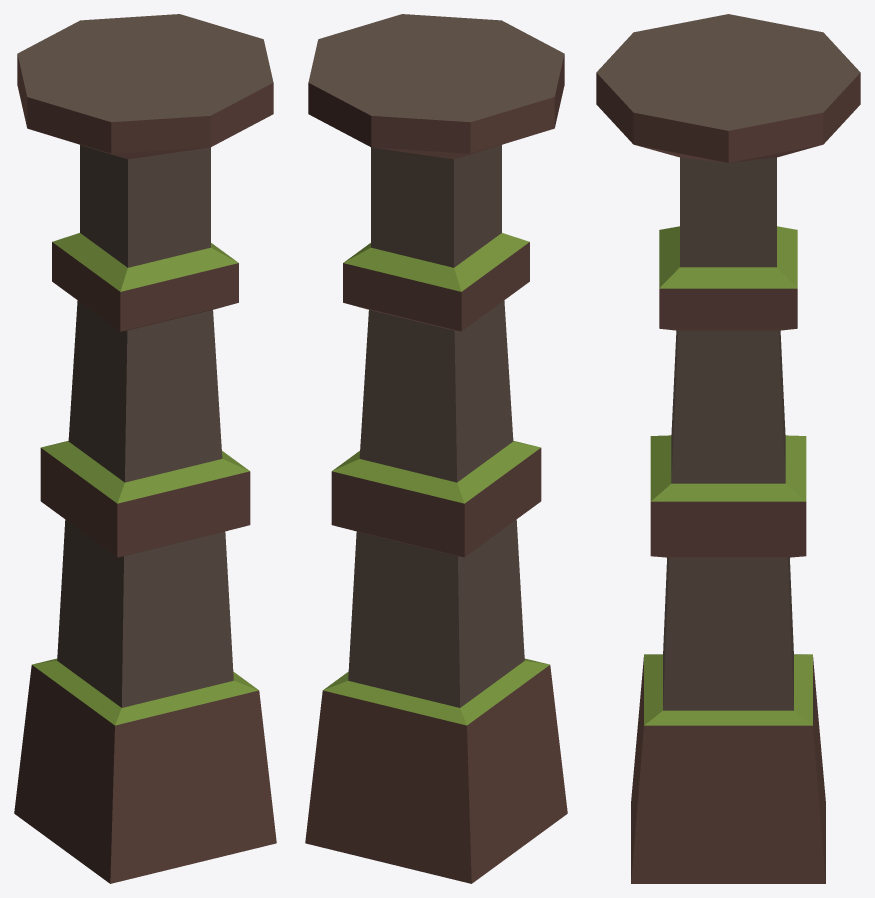
Rendered from RuinBeam02.fbx.
3 renders of one model, left to right at view 1: azimuth 30°, elevation 25°; view 2: azimuth 150°, elevation 25°; view 3: azimuth 270°, elevation 25°, orthographic.
Parts seen in each view (by area): view 1: RuinBeam02; view 2: RuinBeam02; view 3: RuinBeam02.
Part boxes in pixels (x1=…): RuinBeam02: x1=14, y1=14, x2=276, y2=883; RuinBeam02: x1=305, y1=14, x2=567, y2=883; RuinBeam02: x1=596, y1=14, x2=860, y2=883.
Size of the model in its own units: 129 by 415 by 135.
